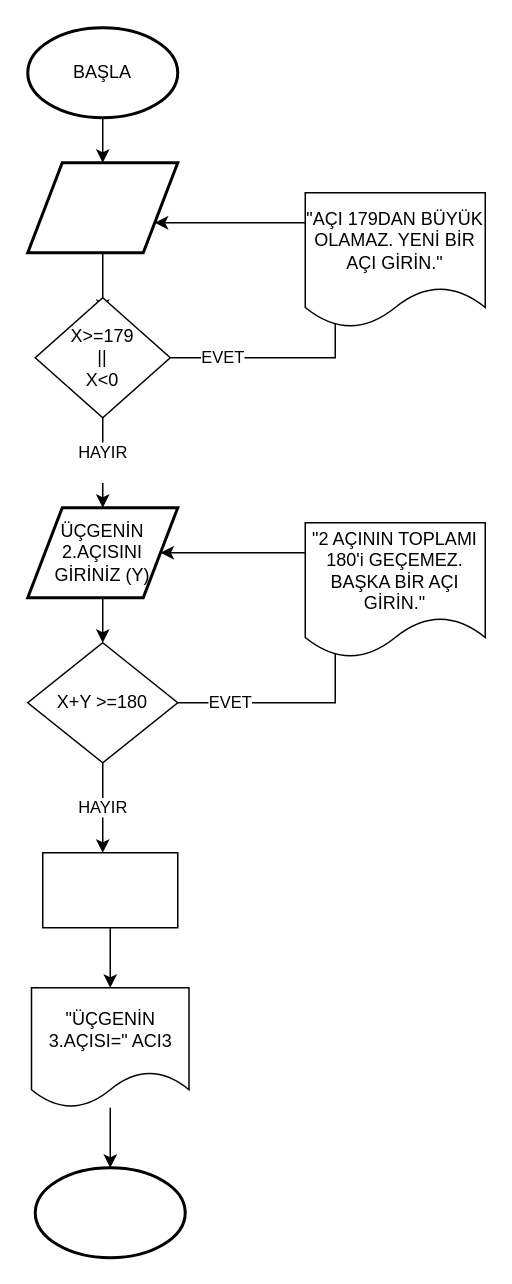
Some shapes in this 512 by 1284 pixel diagram are drawn without their labels. Each missing label, with the centre of its shape:
ACI3 = 180-(X+Y): (x=109, y=889)
BİTİR: (x=109, y=1212)
ÜÇGENİN 1.AÇISINI GİRİNİZ (X): (x=102, y=207)
